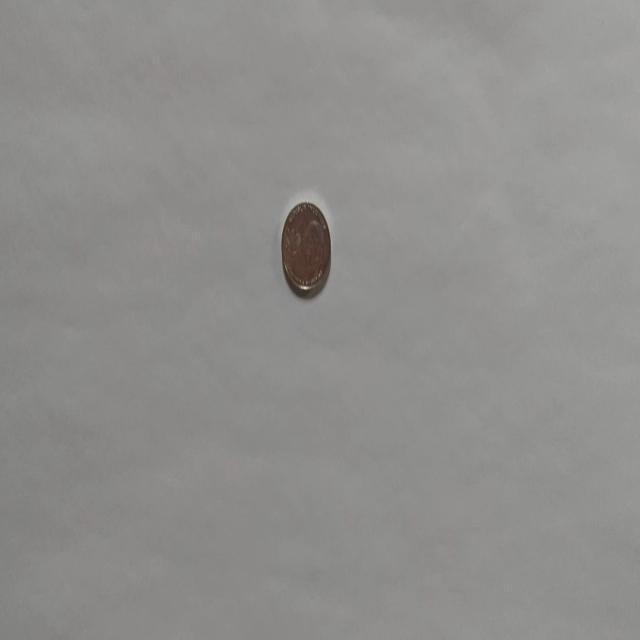lima ratus rupiah: (280, 199, 332, 298)
